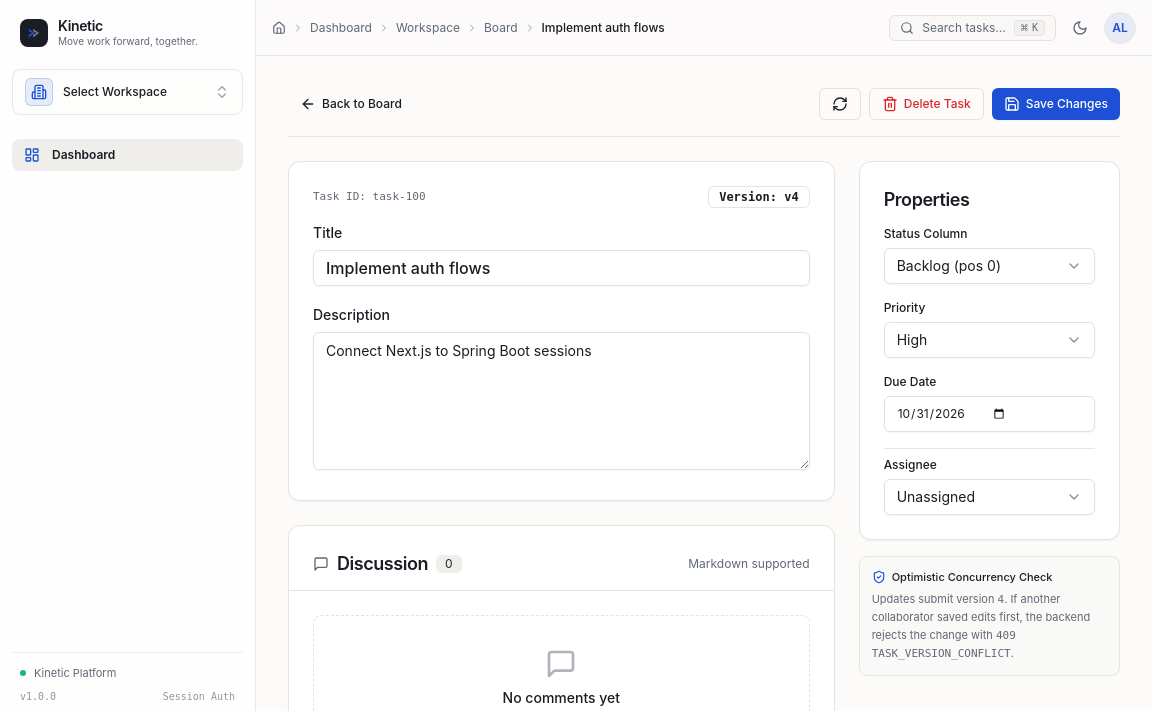
Test: TaskDetailPage Flow › submits updated title and current version to taskApi.update
Replace the text in the field labelled "Title" with "Updated Title": (561, 268) [313,250,810,286]
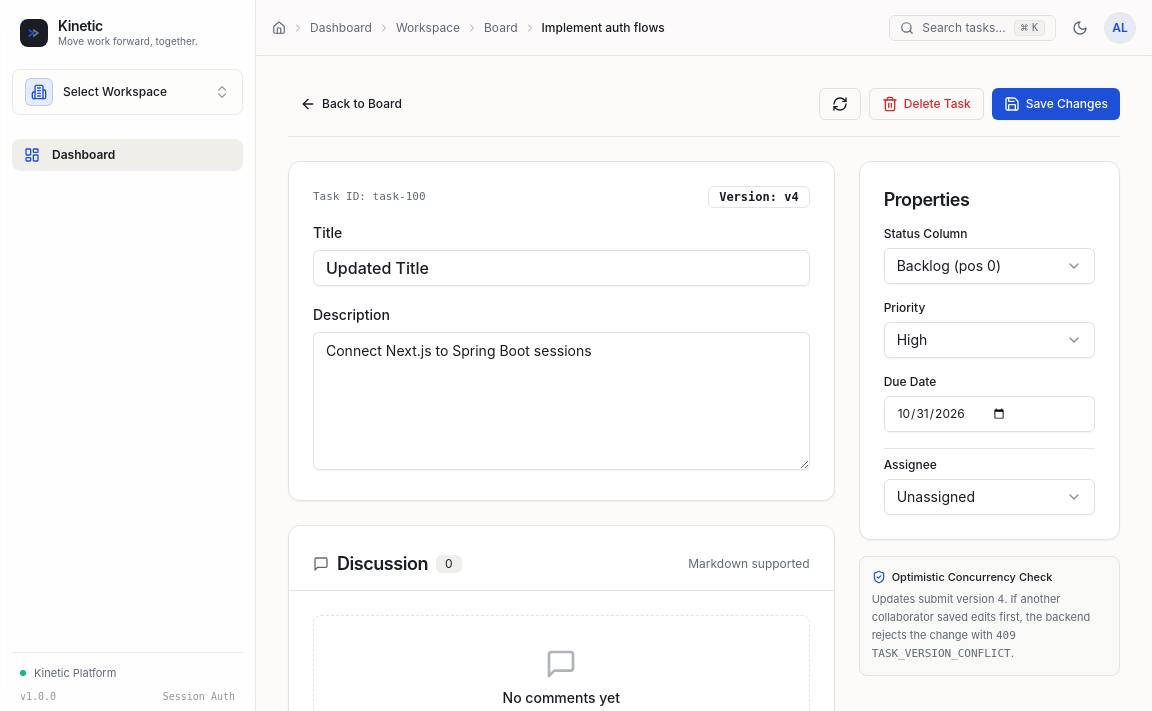
Click the button "Save Changes": (1056, 104) [992,88,1120,120]
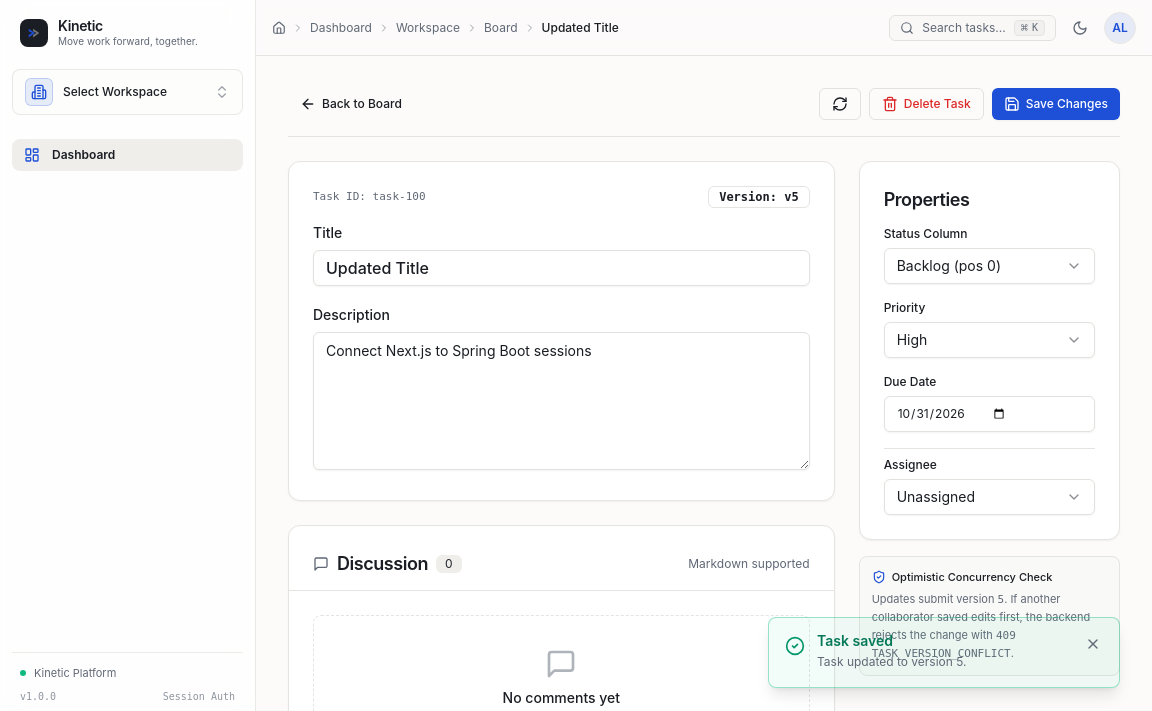
Expected: the text "Version: v5" is shown, [708,186,810,208]
